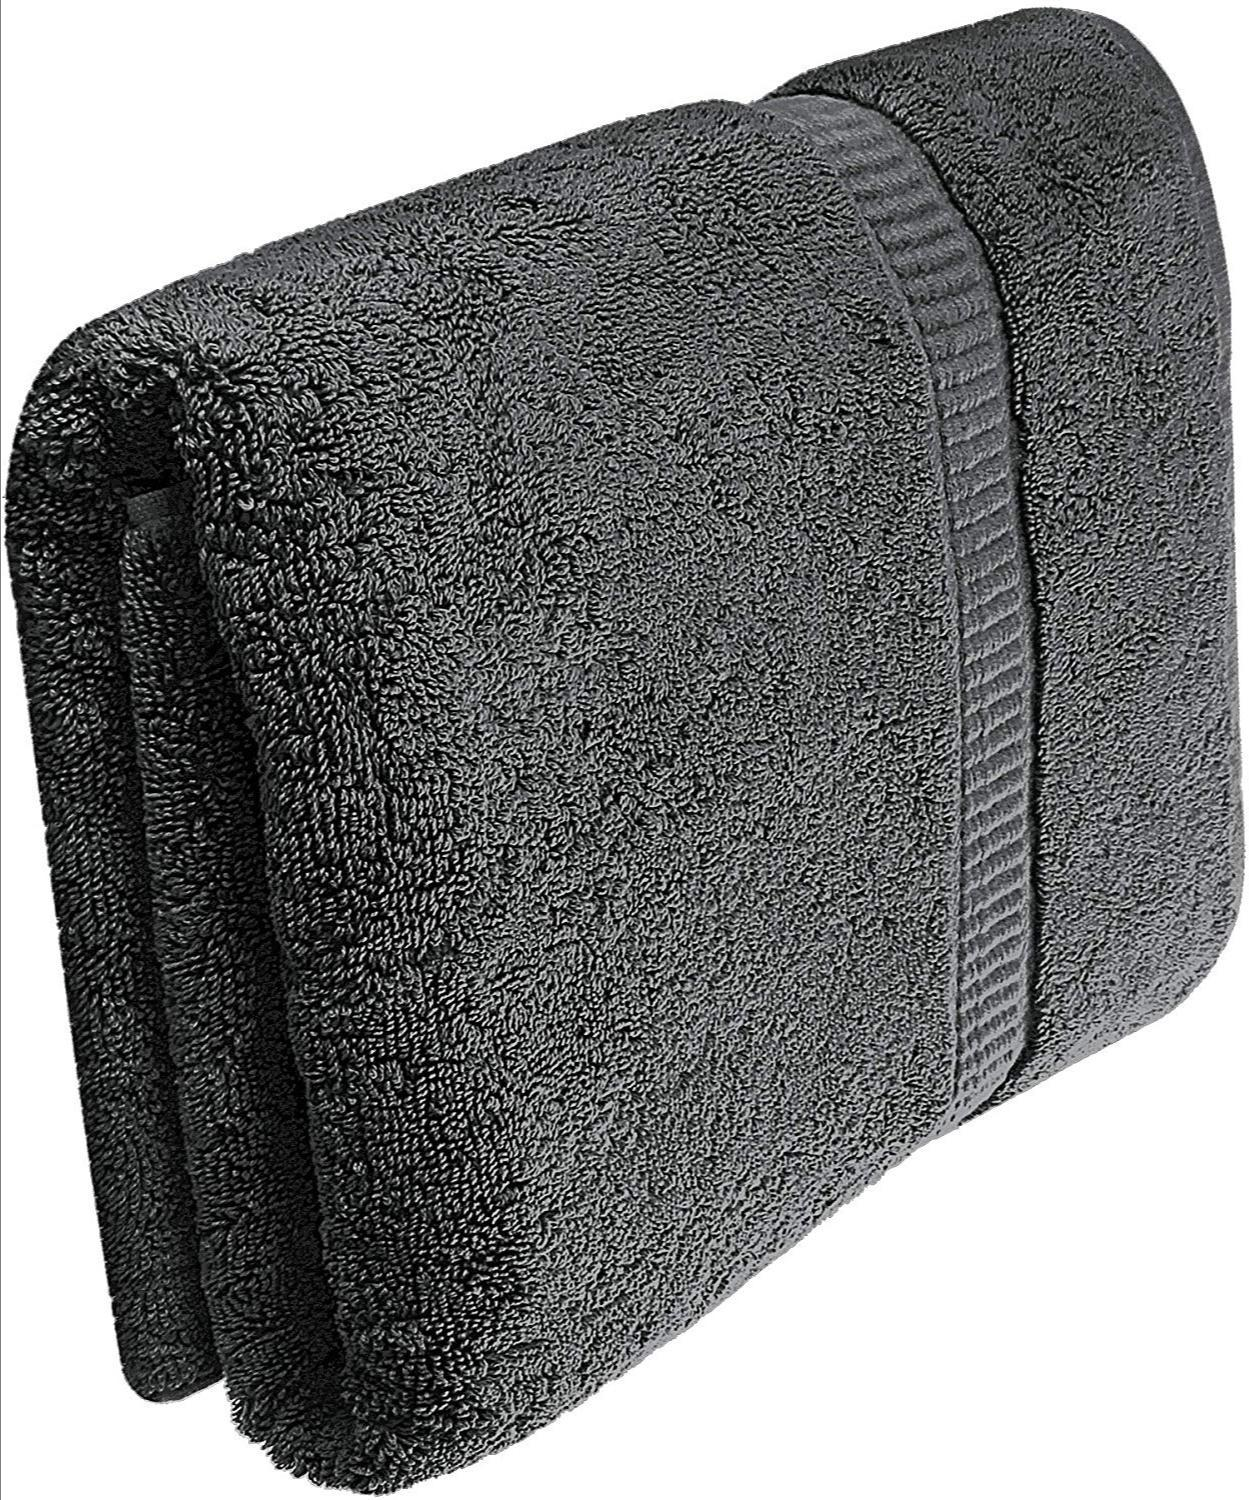towel: (20, 16, 1249, 1500)
